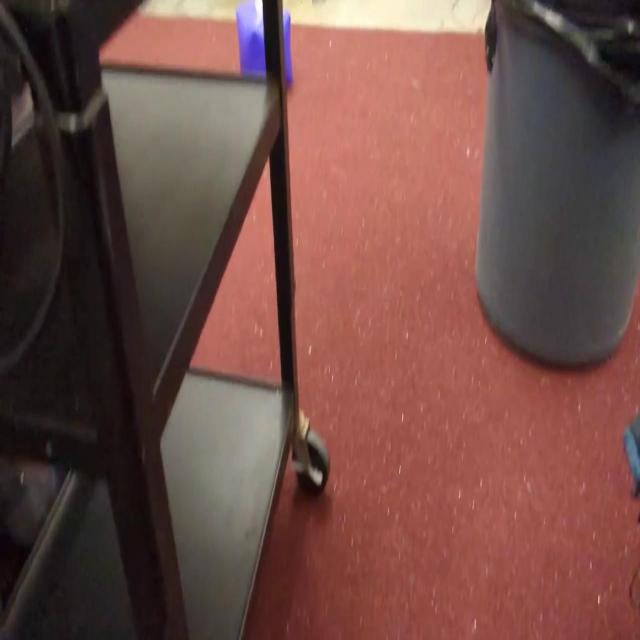frc_cube: (235, 0, 292, 84)
